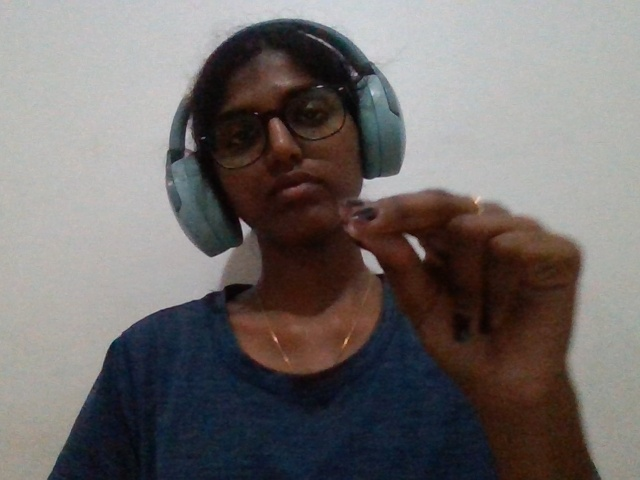No: (318, 181, 619, 427)
